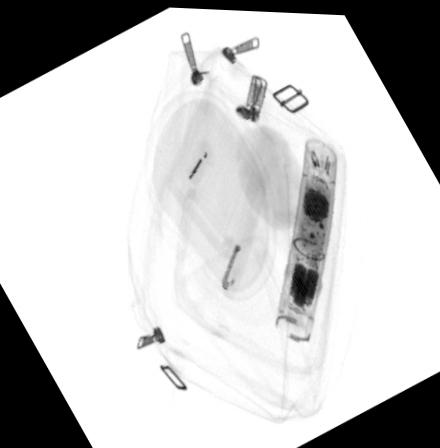Baton: (271, 134, 338, 340)
